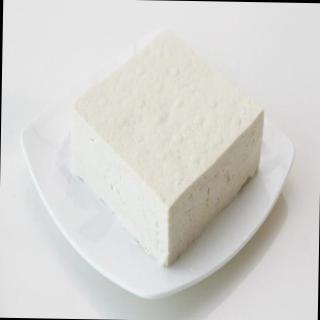Tahu: (38, 28, 292, 262)
